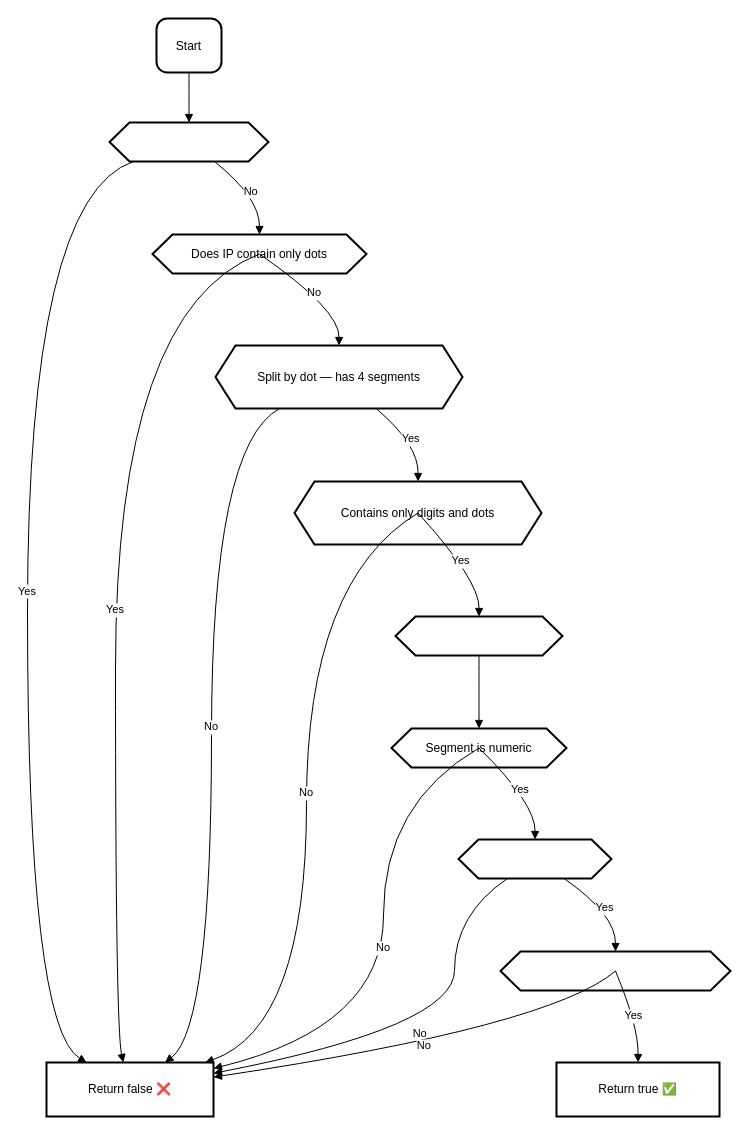
Some shapes in this 748 by 1134 pixel diagram are drawn without their labels. Here are the shapes that lost their labels. From the top down, the centre of each, then its label:
At pixel 188 141: "Is IP string empty".
At pixel 478 635: "For each segment:".
At pixel 534 858: "No leading zeros".
At pixel 615 970: "Value is between 0 and 255".
